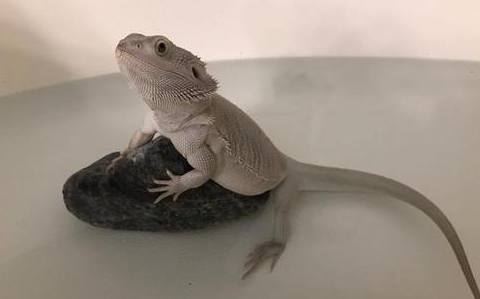bearded: (106, 30, 478, 299)
